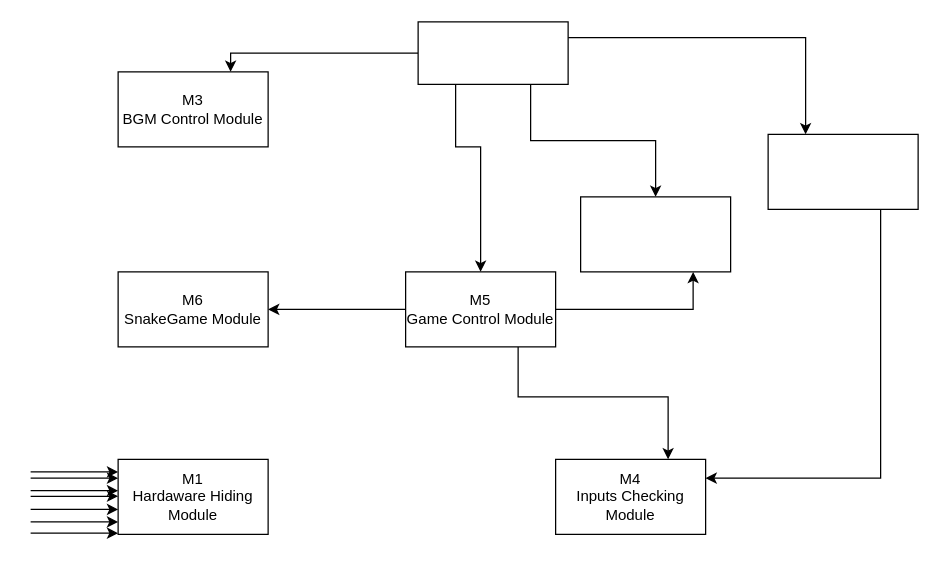
Some shapes in this 940 by 565 pixel diagram are drawn without their labels. The shapes that lost their labels are listed below. From the top down, each one's box as (x1, y1, x2, y2) in pixels, then its label:
(417, 21, 568, 84): M2 View Module
(767, 133, 918, 209): M8 Snake Color Module
(579, 196, 731, 272): M7 History Module
